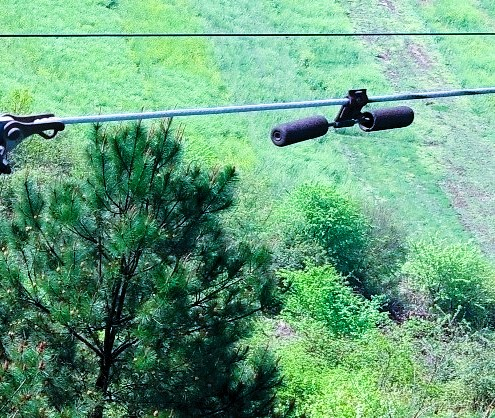Shockproof hammer: (264, 83, 420, 148)
